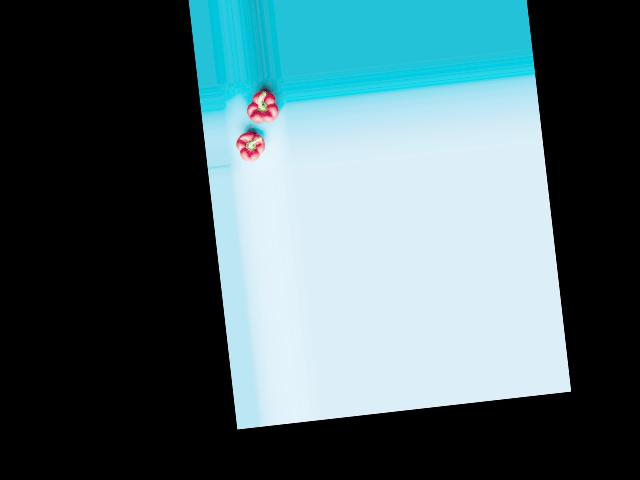bell_pepper: (240, 85, 280, 131)
